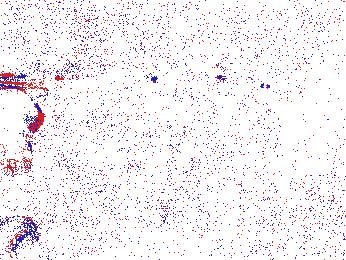flame jellyfish: (1, 83, 44, 178), (186, 196, 240, 246), (1, 215, 52, 260)
